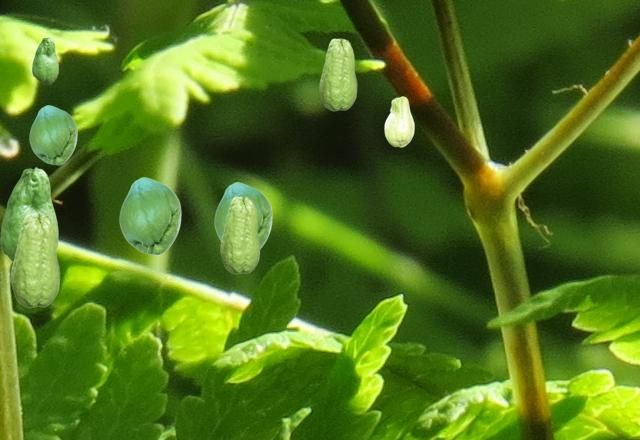sayote: (0, 167, 57, 261), (119, 177, 180, 254), (10, 213, 59, 307), (214, 182, 271, 249), (220, 196, 259, 273), (29, 105, 76, 164), (319, 38, 356, 110), (384, 96, 413, 146), (32, 37, 57, 83)
